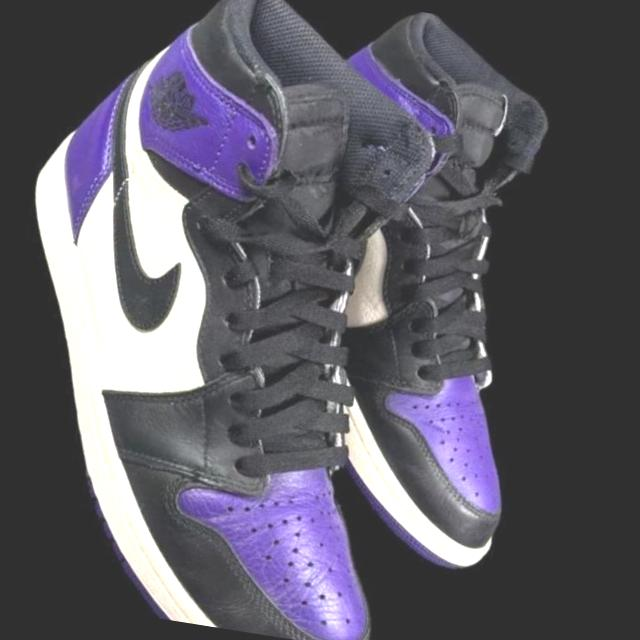nike_original_jordan: (0, 0, 640, 640), (92, 0, 640, 621)
